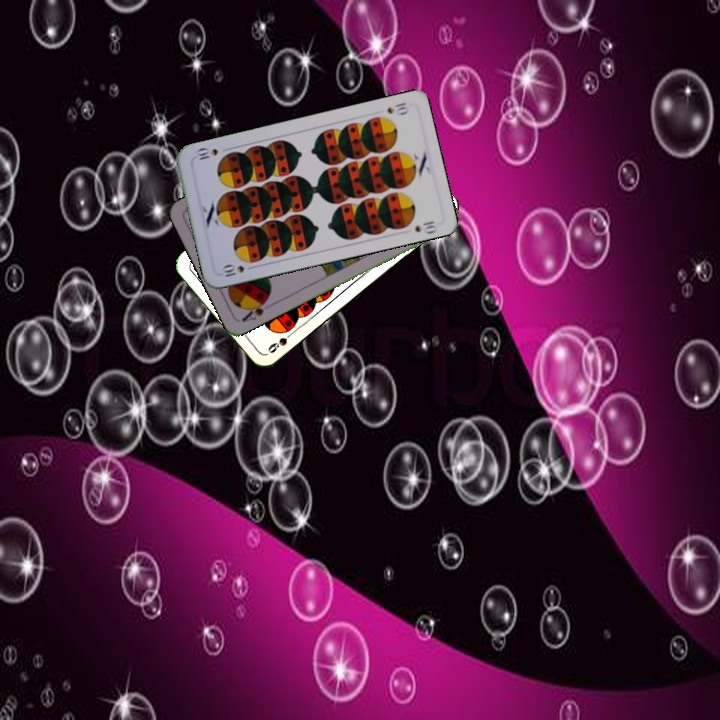S10: (218, 260, 247, 280), (383, 98, 411, 118)
S9: (264, 326, 299, 356)
SA: (238, 294, 271, 325)
